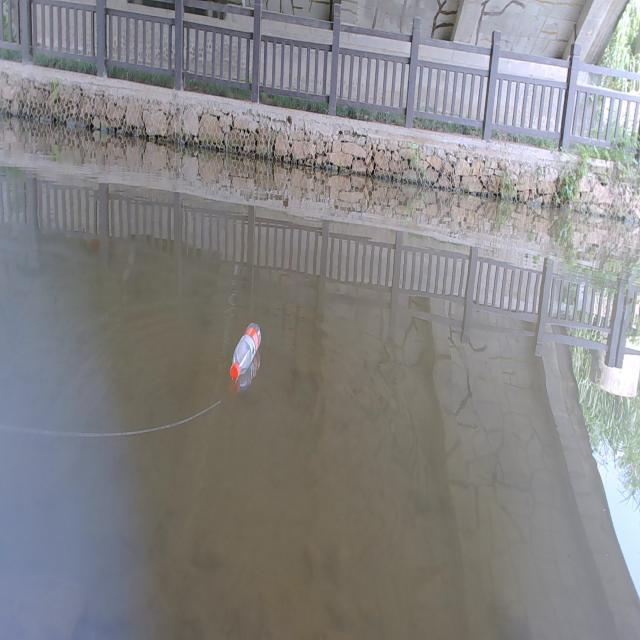Bottle: (228, 318, 263, 381)
